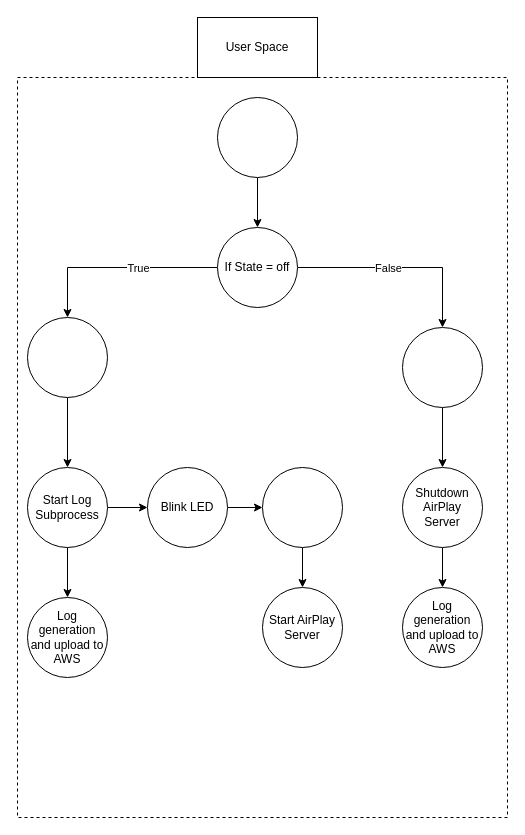
Image size: 525x835. Some labels were removed from this diagram. The shapes that lost their labels are listed below. From the top down, each one's centre as x and y in pixels, then its label:
At (257,137): "Button Press".
At (67,357): "Green LED On".
At (442,367): "Red LED On".
At (302,507): "Start AirPlay subprocess".
